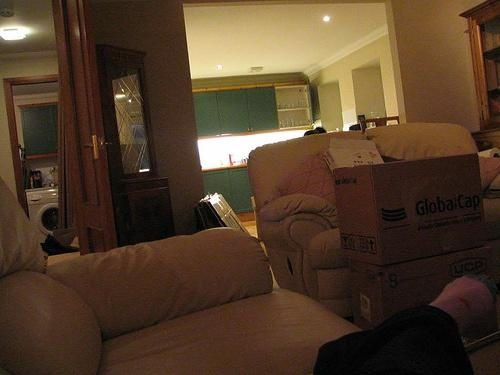sofa: (2, 180, 394, 374), (245, 121, 500, 312)
